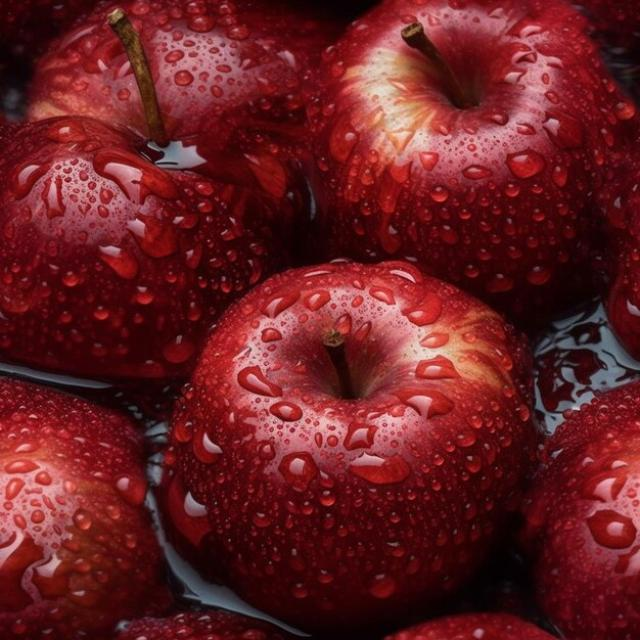apple_fruit: (166, 252, 547, 639), (289, 0, 639, 318), (0, 116, 258, 388)
